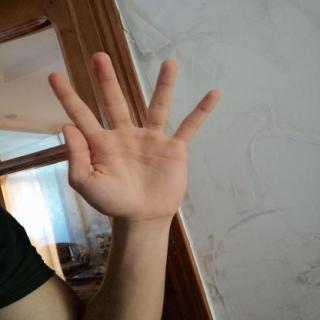SHEEN: (39, 42, 233, 232)
